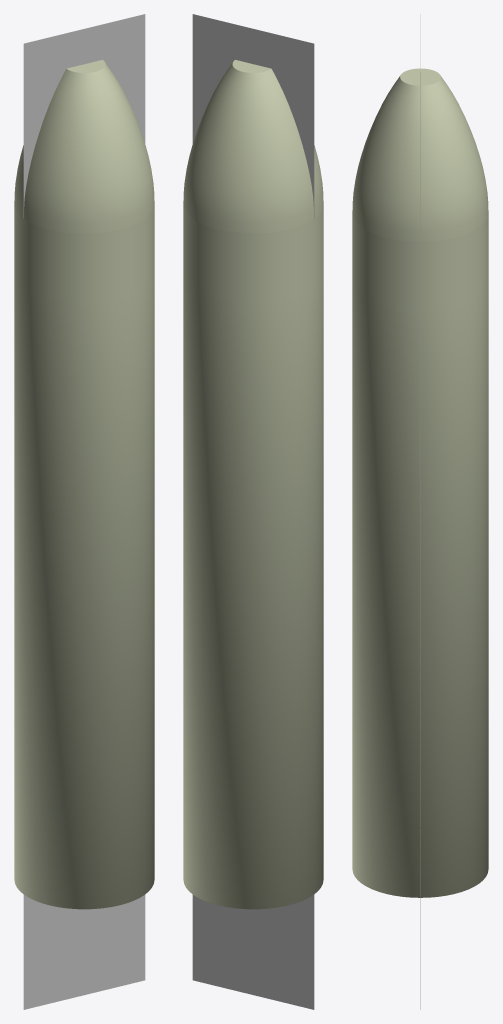
Rendered from test shapes.obj.
3 views of the same model, side by side, from view 1: azimuth 30°, elevation 25°; view 2: azimuth 150°, elevation 25°; view 3: azimuth 270°, elevation 25° (orthographic). The views are drawn at different scales.
Visible parts, largest first — view 1: Cylinder2, image1; view 2: Cylinder2, image1; view 3: Cylinder2, image1.
Boxes of the visible parts, x1=… form: Cylinder2: x1=14, y1=60, x2=154, y2=909; image1: x1=23, y1=14, x2=145, y2=1009; Cylinder2: x1=183, y1=60, x2=323, y2=909; image1: x1=192, y1=14, x2=314, y2=1009; Cylinder2: x1=352, y1=68, x2=488, y2=897; image1: x1=420, y1=14, x2=420, y2=1009.
Bounding box in the file's own units: 5 × 38.04 × 5.
